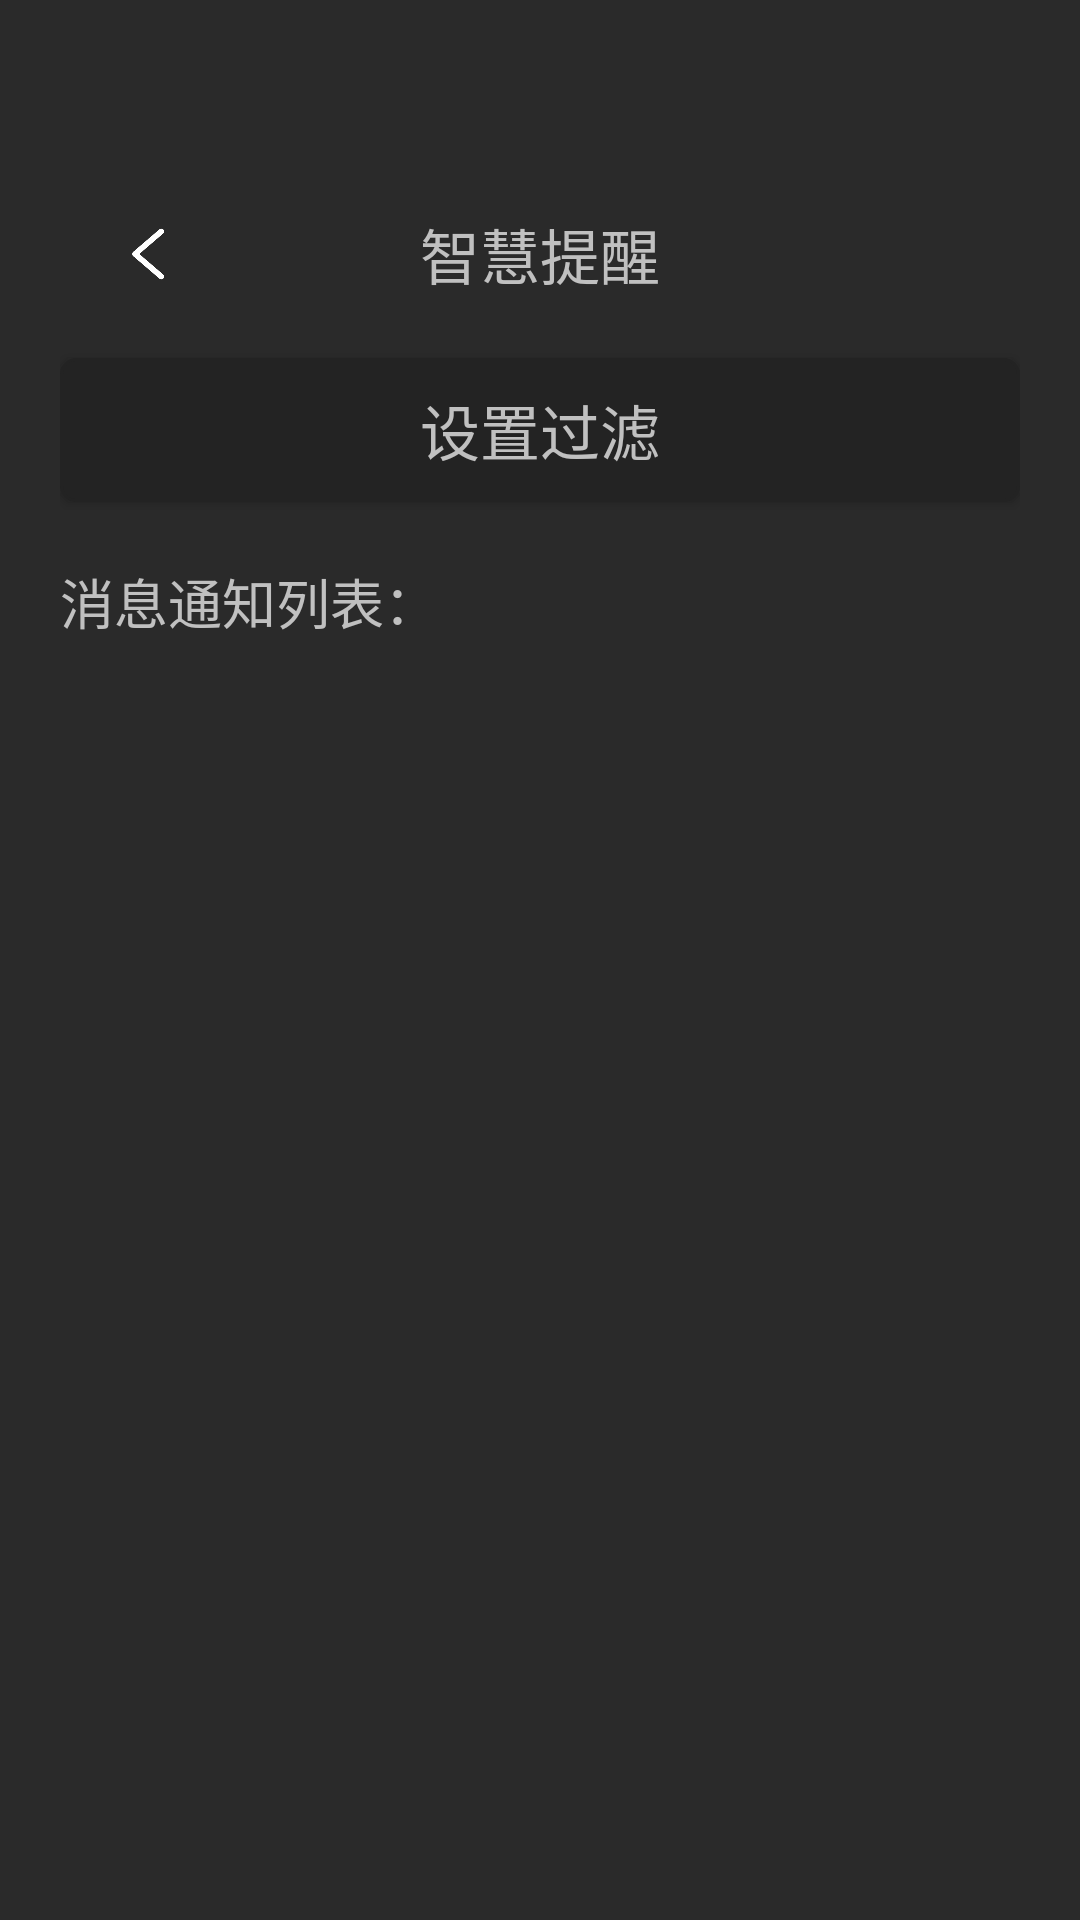

Icons on this 1080*1920 Android screen, each with the point to tap as point (x, y):
left: point (148, 254)
